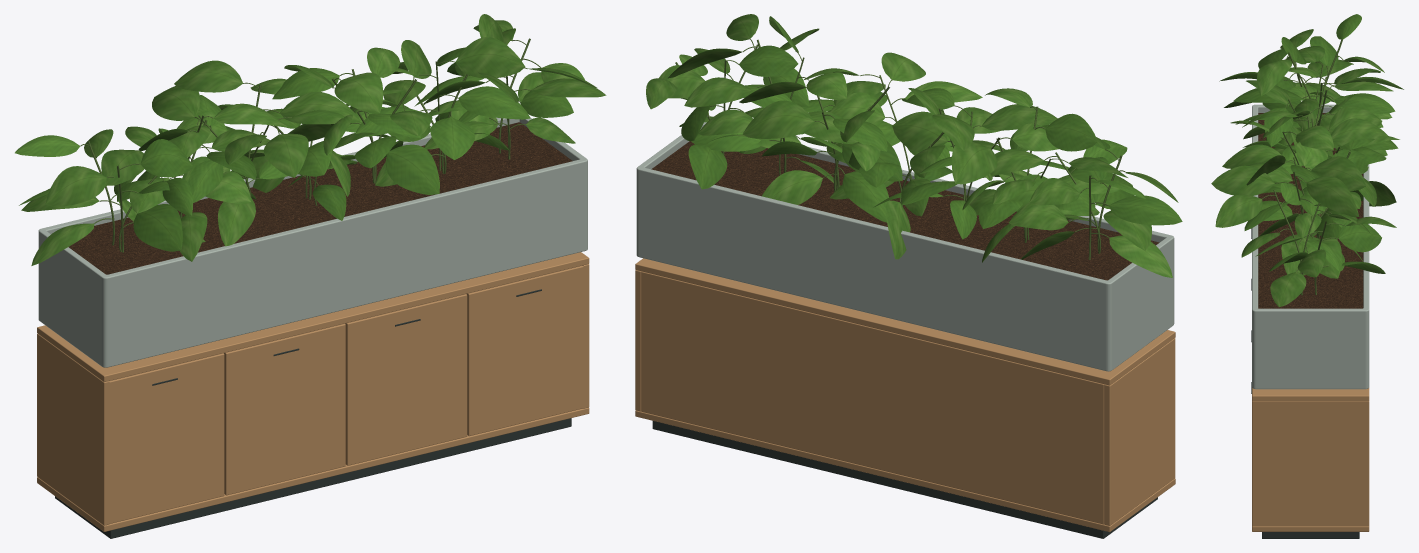
File: botanicalDivider-8.glb
The picture shows the model from 3 angles, left to right: view 1: azimuth 30°, elevation 25°; view 2: azimuth 150°, elevation 25°; view 3: azimuth 270°, elevation 25°; orthographic projection. The views are drawn at different scales.
Visible parts, largest first — view 1: StoragePlanter_Door (×4), Planter_pothos_leaves, Planter_oiled_oak, Planter_loose_soil, StoragePlanter_Side (×2), StoragePlanter_Top, StoragePlanter_Plinth, StoragePlanter_Bottom, Planter_pothos_stems; view 2: StoragePlanter_Back, Planter_pothos_leaves, Planter_oiled_oak, Planter_loose_soil, StoragePlanter_Side (×2), StoragePlanter_Top, StoragePlanter_Plinth, StoragePlanter_Bottom, Planter_pothos_stems; view 3: Planter_pothos_leaves, StoragePlanter_Side, Planter_oiled_oak, Planter_loose_soil, Planter_pothos_stems, StoragePlanter_Top, StoragePlanter_Bottom, StoragePlanter_Plinth.
Part boxes in pixels (bbox=[...]): StoragePlanter_Door (×4): bbox=[109, 265, 584, 523]; Planter_pothos_leaves: bbox=[15, 14, 606, 265]; Planter_oiled_oak: bbox=[38, 117, 587, 367]; Planter_loose_soil: bbox=[68, 122, 572, 274]; StoragePlanter_Side (×2): bbox=[37, 264, 589, 525]; StoragePlanter_Top: bbox=[37, 252, 589, 382]; StoragePlanter_Plinth: bbox=[55, 418, 571, 538]; StoragePlanter_Bottom: bbox=[37, 407, 589, 531]; Planter_pothos_stems: bbox=[80, 38, 541, 252]; StoragePlanter_Back: bbox=[641, 271, 1104, 524]; Planter_pothos_leaves: bbox=[646, 14, 1182, 277]; Planter_oiled_oak: bbox=[636, 122, 1174, 371]; Planter_loose_soil: bbox=[651, 141, 1159, 280]; StoragePlanter_Side (×2): bbox=[635, 270, 1175, 525]; StoragePlanter_Top: bbox=[635, 258, 1175, 385]; StoragePlanter_Plinth: bbox=[652, 421, 1157, 538]; StoragePlanter_Bottom: bbox=[635, 410, 1175, 532]; Planter_pothos_stems: bbox=[675, 39, 1125, 259]; Planter_pothos_leaves: bbox=[1211, 14, 1403, 307]; StoragePlanter_Side: bbox=[1252, 401, 1369, 526]; Planter_oiled_oak: bbox=[1252, 104, 1369, 389]; Planter_loose_soil: bbox=[1258, 113, 1363, 308]; Planter_pothos_stems: bbox=[1262, 39, 1350, 295]; StoragePlanter_Top: bbox=[1252, 387, 1369, 401]; StoragePlanter_Bottom: bbox=[1252, 526, 1369, 531]; StoragePlanter_Plinth: bbox=[1262, 532, 1359, 538].
Size of the model in its own units: 2.26 by 1.58 by 0.7924.
9 materials, 2 textured.
